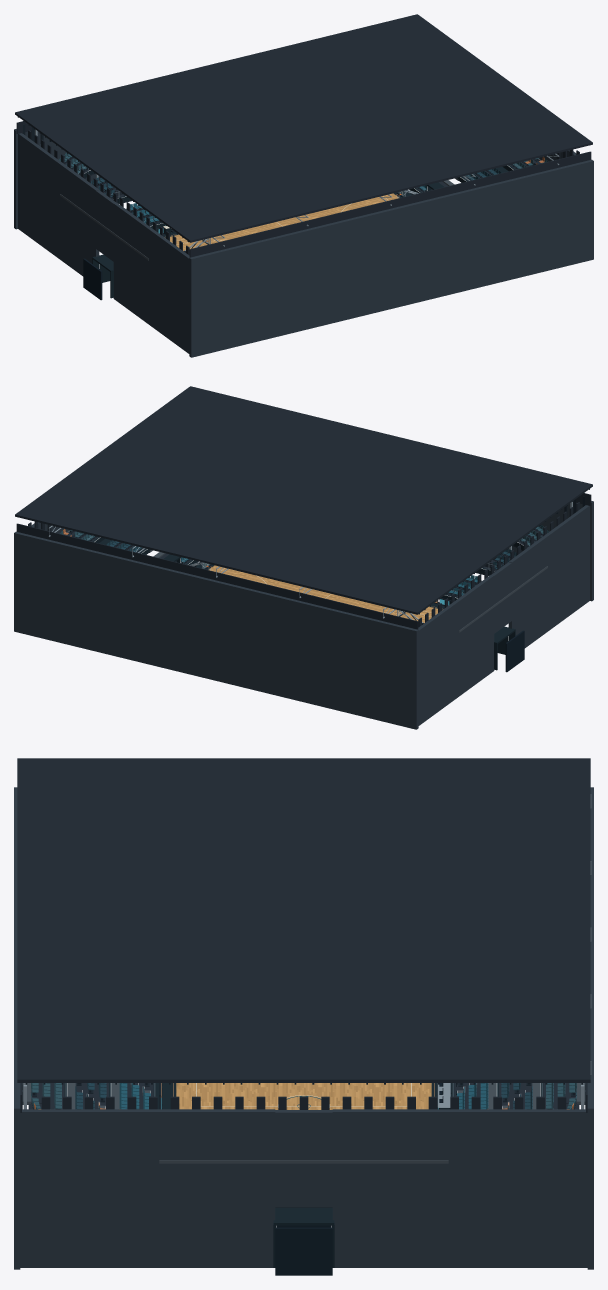
The model's file is arena.glb.
3 views of the same model, one above another, from view 1: azimuth 30°, elevation 25°; view 2: azimuth 150°, elevation 25°; view 3: azimuth 270°, elevation 25° (orthographic). The views are drawn at different scales.
Parts seen in each view (by area): view 1: Wall_Far_wall, Roof_Far_acoustic, Roof_Near_acoustic, Wall_West_wall, Wall_Far_acoustic, Court_maple, Wall_West_acoustic, Wall_Near_wall, Wall_West_rubber, Wall_West_ink; view 2: Wall_Near_wall, Roof_Near_acoustic, Roof_Far_acoustic, Wall_West_wall, Wall_Near_acoustic, Court_maple, Wall_West_acoustic, Wall_Far_wall, Wall_West_rubber, Wall_West_ink; view 3: Roof_Far_acoustic, Roof_Near_acoustic, Wall_East_wall, Court_maple, Wall_East_acoustic, Wall_East_rubber, Wall_Far_wall, Wall_Near_wall, Wall_East_ink, Stands_East_Tier3_concrete.
Boxes of the visible parts, x1,y1,x2,y2 form: Wall_Far_wall: (189,159,593,357); Roof_Far_acoustic: (102,78,592,242); Roof_Near_acoustic: (15,14,504,178); Wall_West_wall: (18,133,189,353); Wall_Far_acoustic: (189,151,591,257); Court_maple: (170,193,398,250); Wall_West_acoustic: (28,130,189,255); Wall_Near_wall: (14,129,132,229); Wall_West_rubber: (83,258,102,300); Wall_West_ink: (92,254,113,298); Wall_Near_wall: (14,531,418,729); Roof_Near_acoustic: (15,450,505,614); Roof_Far_acoustic: (103,386,592,550); Wall_West_wall: (418,505,589,725); Wall_Near_acoustic: (16,523,418,629); Court_maple: (209,565,437,622); Wall_West_acoustic: (418,502,579,627); Wall_Far_wall: (475,501,593,601); Wall_West_rubber: (505,630,524,672); Wall_West_ink: (494,626,515,670); Roof_Far_acoustic: (17,758,303,1082); Roof_Near_acoustic: (304,758,590,1082); Wall_East_wall: (20,1109,587,1267); Court_maple: (176,1083,431,1109); Wall_East_acoustic: (41,1096,566,1109); Wall_East_rubber: (275,1227,332,1275); Wall_Far_wall: (14,787,20,1269); Wall_Near_wall: (587,787,593,1269); Wall_East_ink: (273,1208,334,1267); Stands_East_Tier3_concrete: (159,1160,448,1163).
Bounding box in the file's own units: 55.8 × 14.85 × 40.45.
Materials: 23 (1 with a texture image).
